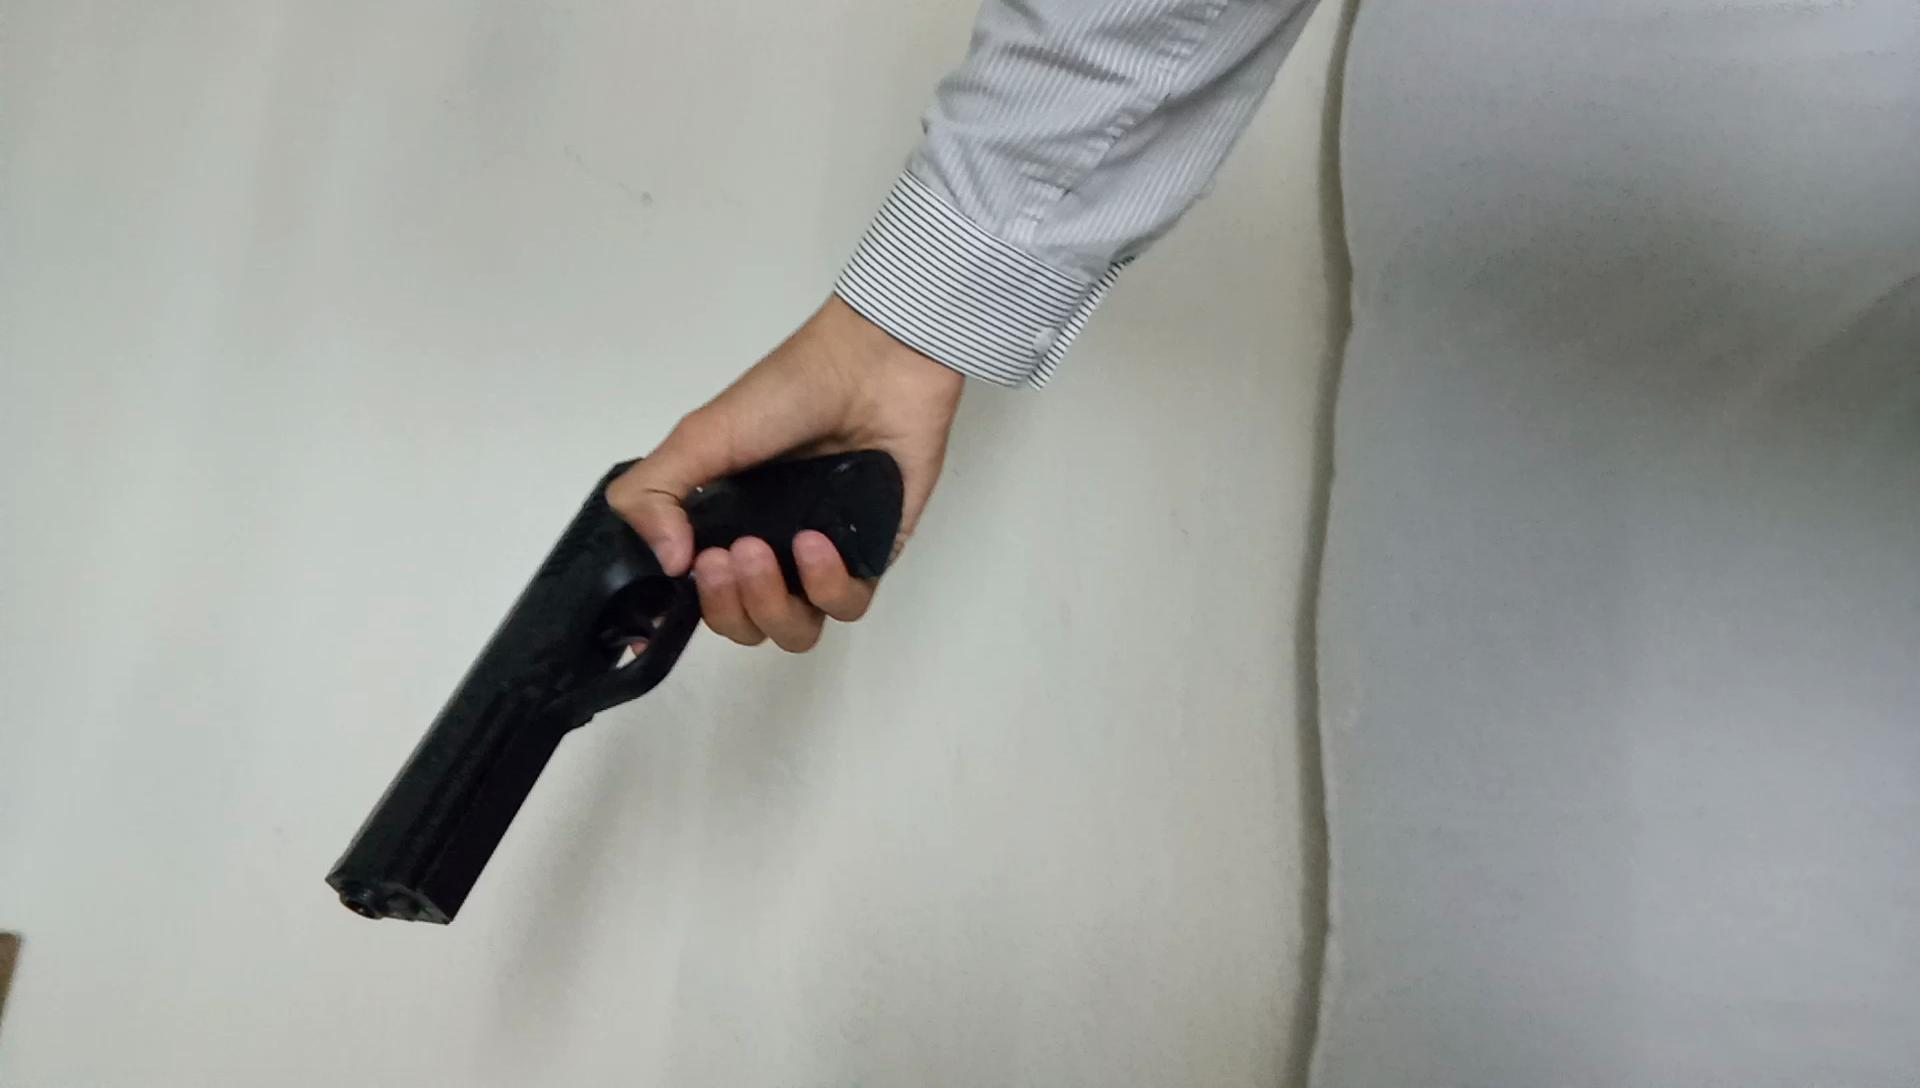weapon: (313, 435, 918, 939)
